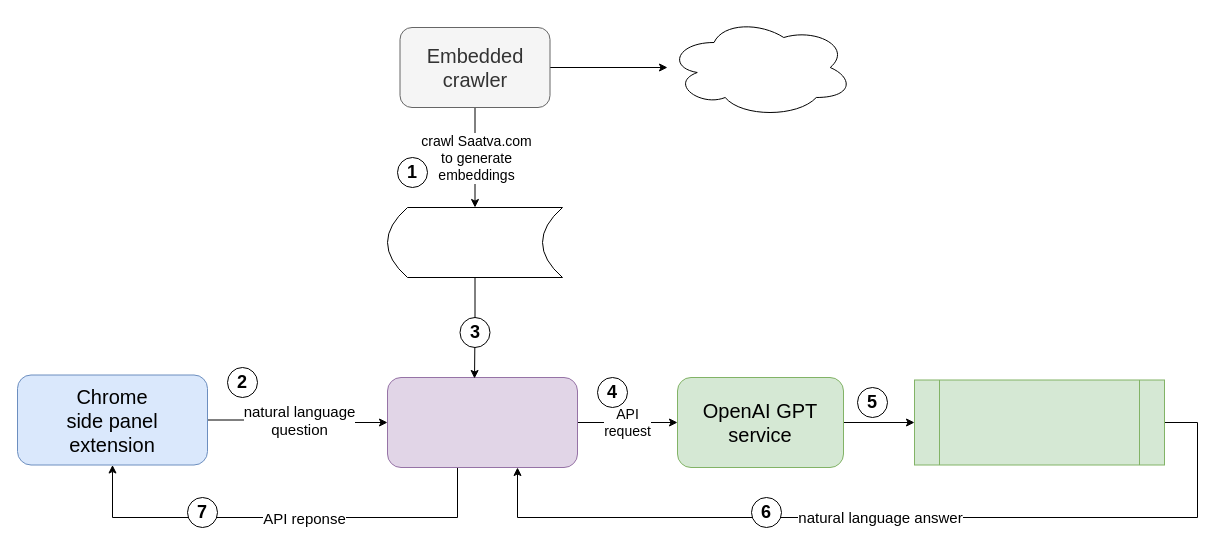
The diagram is 1223 pixels wide and 545 high, and some of its shapes have lost their labels. The shapes that lost their labels are listed below. From the top down, each one's centre as x and y in pixels, then its label:
At point (760, 67): "Saatva.com".
At point (474, 242): "embeddings data storage".
At point (482, 422): "backend server".
At point (1039, 422): "LLM model service (text-davinci-003)".
